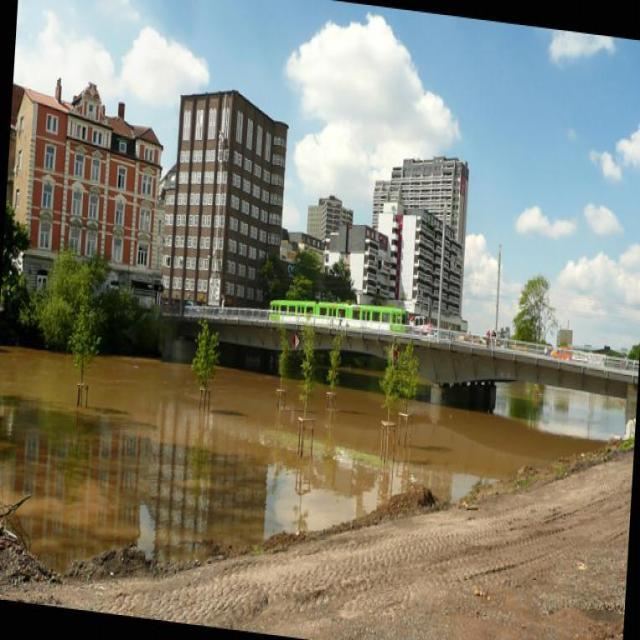flood: (0, 312, 628, 638)
